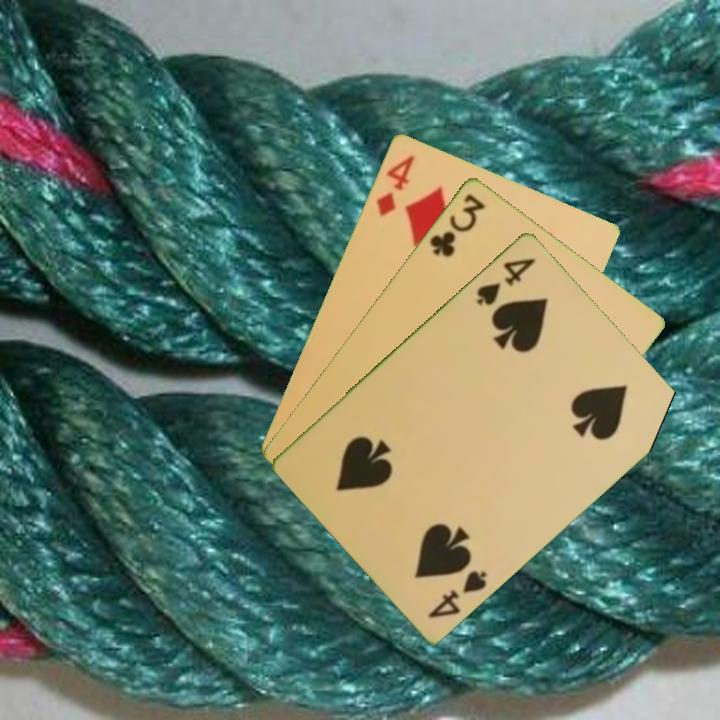3c: (425, 189, 488, 260)
4d: (372, 151, 417, 219)
4s: (424, 565, 490, 621), (472, 253, 539, 308)
